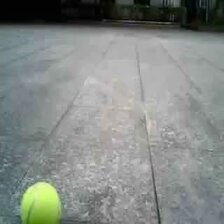tennis: (22, 182, 61, 224)
